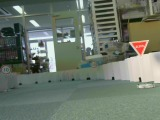stop: (129, 40, 150, 57)
